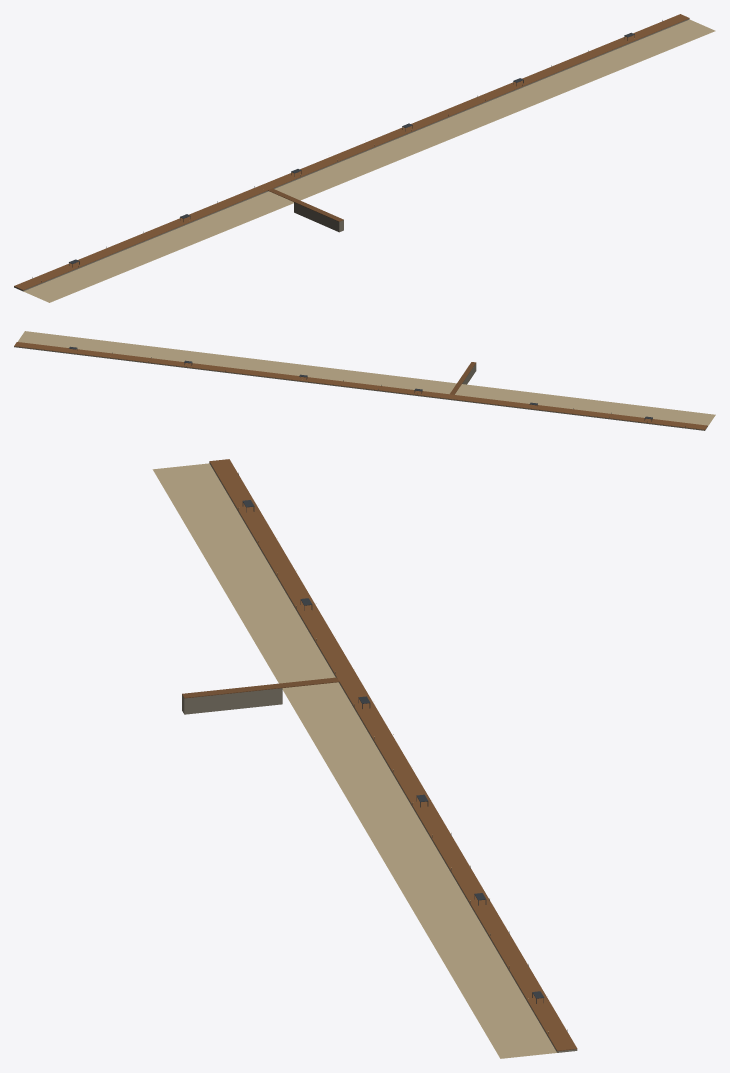
The picture shows the model from 3 angles, top to bottom: view 1: azimuth 30°, elevation 25°; view 2: azimuth 150°, elevation 25°; view 3: azimuth 270°, elevation 25°; orthographic projection. The views are drawn at different scales.
Parts seen in each view (by area): view 1: coney-island-boardwalk-lod2; view 2: coney-island-boardwalk-lod2; view 3: coney-island-boardwalk-lod2.
Boxes of the visible parts, box(x1,y1,x2,y2) form: coney-island-boardwalk-lod2: box(14, 14, 715, 302); coney-island-boardwalk-lod2: box(14, 331, 715, 430); coney-island-boardwalk-lod2: box(152, 459, 577, 1058).
Bounding box in the file's own units: 2656 × 46.69 × 798.
